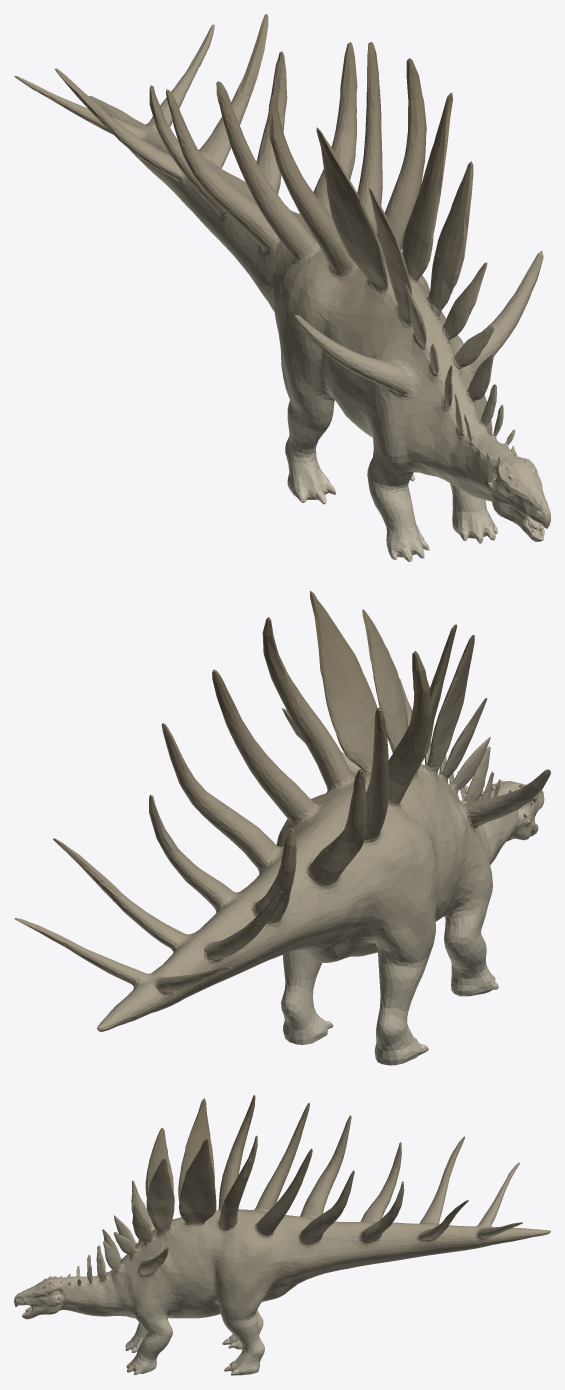
File: kentrosaurus.glb
The picture shows the model from 3 angles, top to bottom: view 1: azimuth 30°, elevation 25°; view 2: azimuth 150°, elevation 25°; view 3: azimuth 270°, elevation 25°; orthographic projection. The views are drawn at different scales.
Visible parts, largest first — view 1: world; view 2: world; view 3: world.
Part boxes in pixels (x1,y1,x2,y2): world: [14, 14, 550, 561]; world: [14, 591, 550, 1065]; world: [14, 1095, 550, 1375].
Bounding box in the file's own units: 51.34 × 77.87 × 156.
